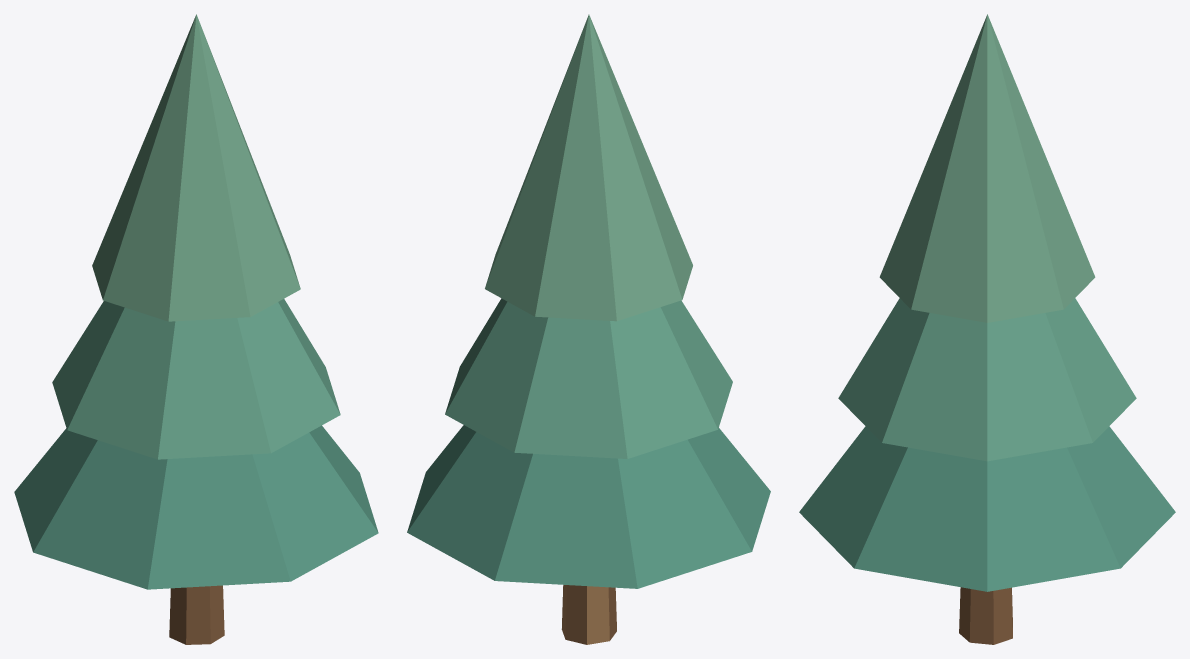
Rendered from tree-pine.glb.
3 renders of one model, left to right at view 1: azimuth 30°, elevation 25°; view 2: azimuth 150°, elevation 25°; view 3: azimuth 270°, elevation 25°, orthographic.
Parts seen in each view (by area): view 1: tree-pine; view 2: tree-pine; view 3: tree-pine.
Part boxes in pixels (x1=…): tree-pine: x1=14, y1=14, x2=378, y2=644; tree-pine: x1=407, y1=14, x2=770, y2=644; tree-pine: x1=799, y1=14, x2=1175, y2=644.
Size of the model in its own units: 1.92 by 3.48 by 1.92.
